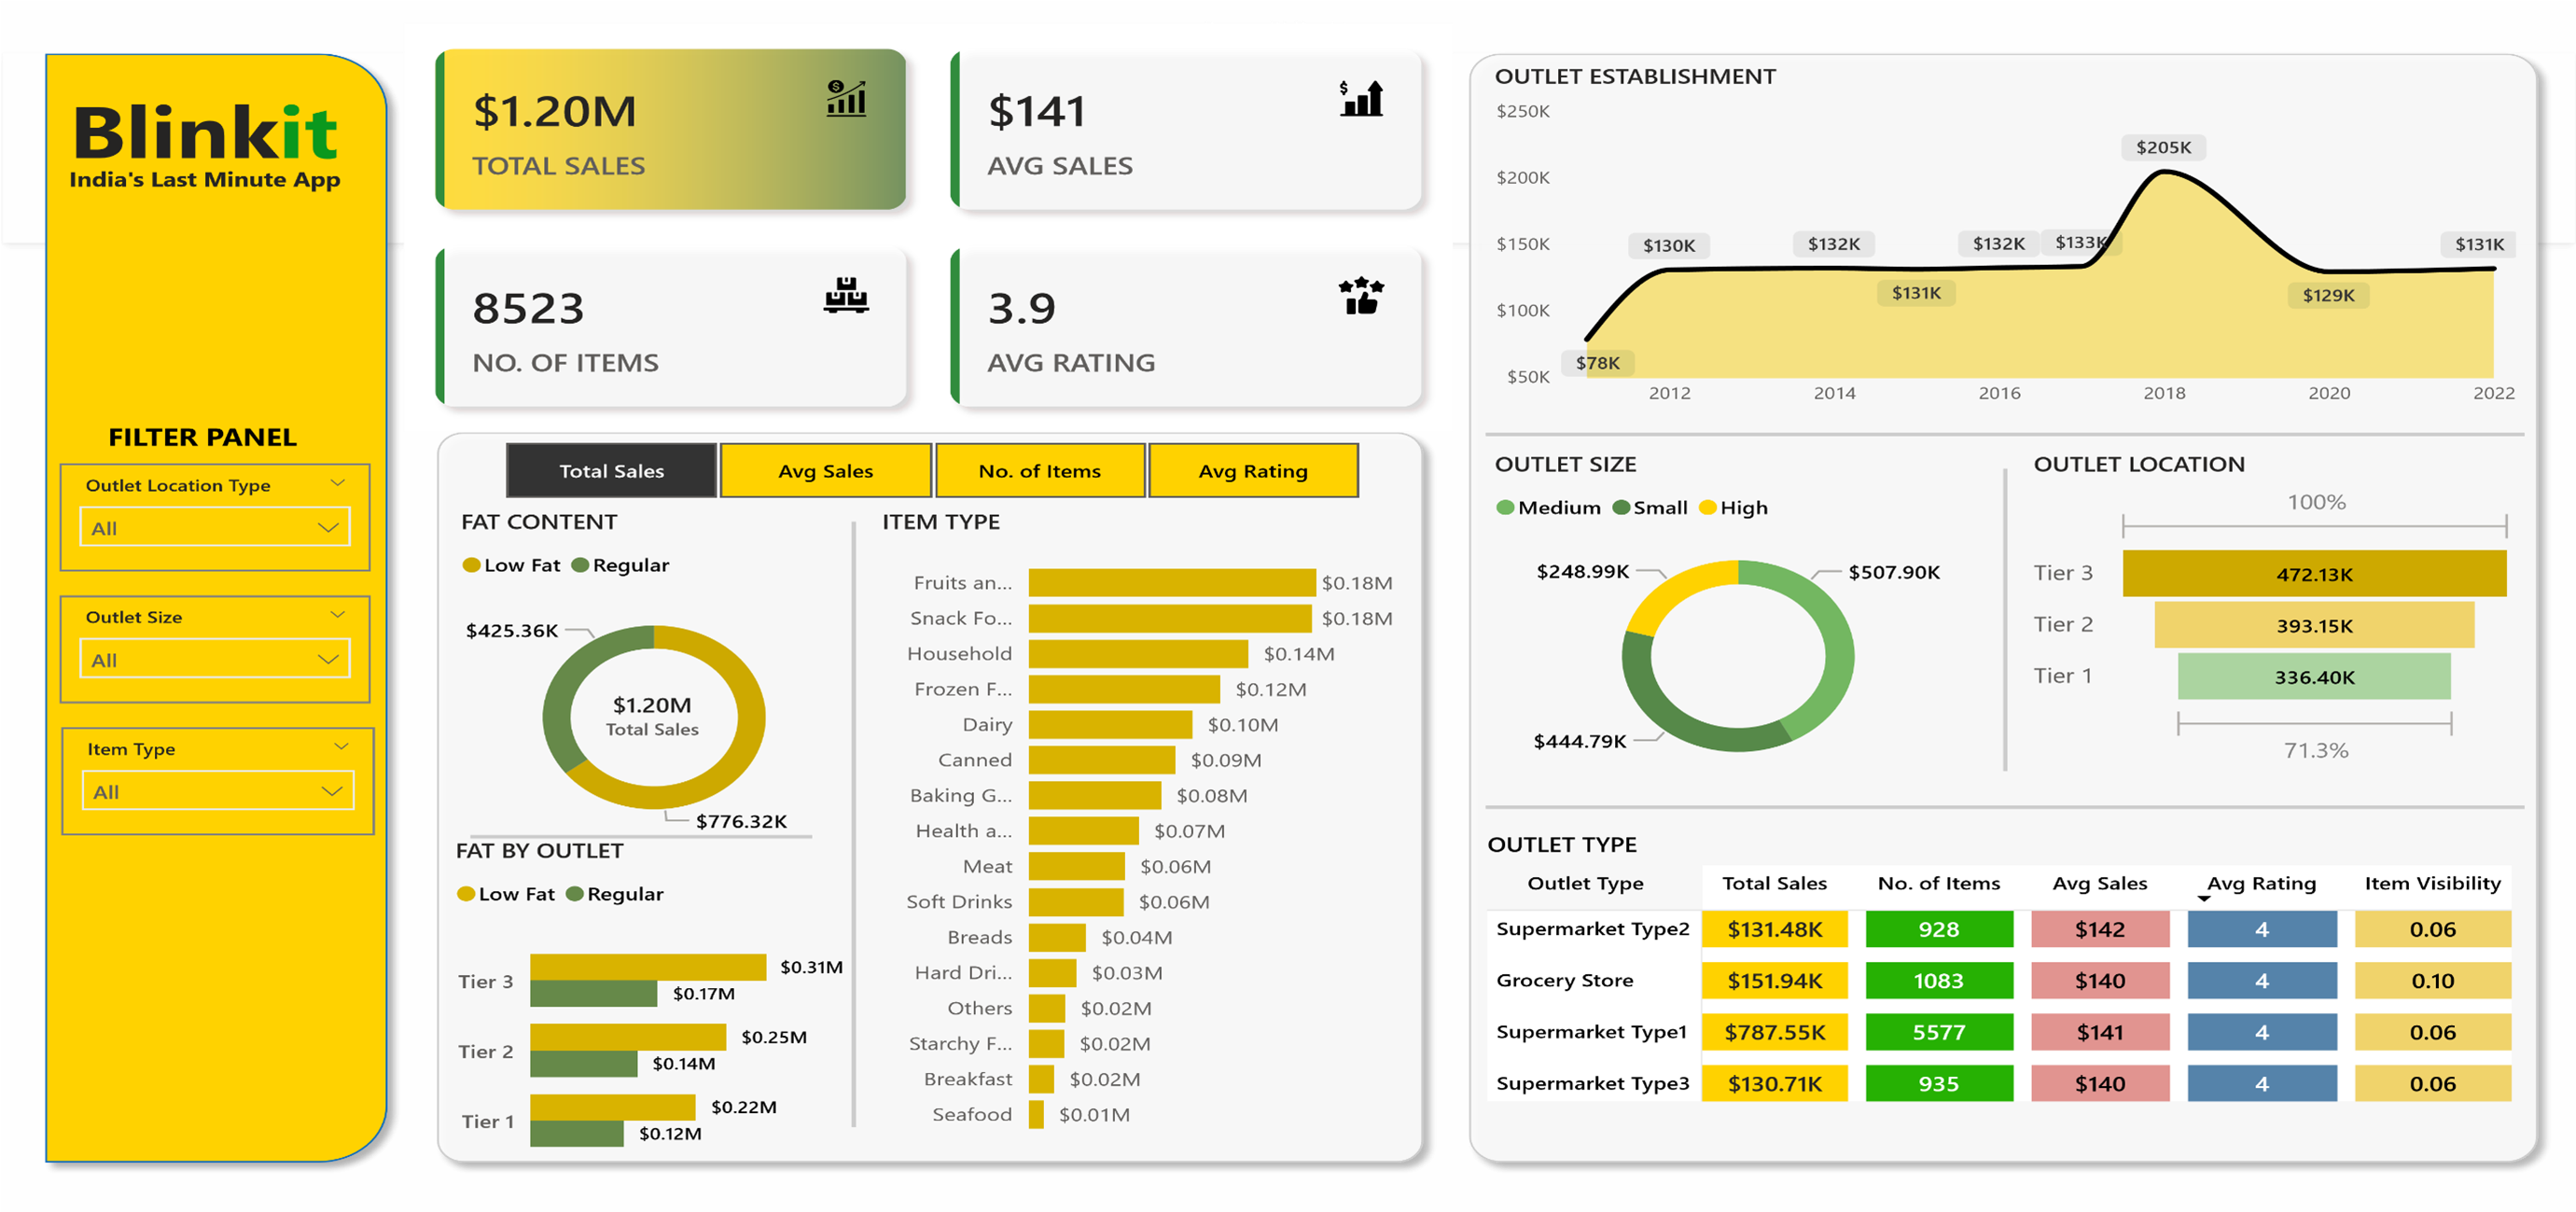

The dashboard page shown, as its layout file describes it:
{"tool":"powerbi","page":{"name":"Page 1","canvas":[1400,800],"ordinal":0},"visuals":[{"type":"shape","box":[15,25.5,204.1,750.4],"z":0},{"type":"textbox","box":[31.5,46.5,166.6,85.5],"z":1000},{"type":"textbox","box":[31.5,103.6,166.6,28.5],"z":2000},{"type":"cardVisual","fields":{"Data":["BlinkIT Grocery Data.Total Sales","BlinkIT Grocery Data.Avg Sales","BlinkIT Grocery Data.No. of Items","BlinkIT Grocery Data.Avg Rating"]},"box":[219.1,15,570.3,270.2],"z":3000},{"type":"shape","box":[228.1,276.2,553.8,499.8],"z":4000},{"type":"donutChart","title":"FAT CONTENT","fields":{"Y":["BlinkIT Grocery Data.Total Sales"],"Category":["BlinkIT Grocery Data.Item Fat Content"]},"box":[245,335,220,230],"z":5000},{"type":"slicer","fields":{"Values":["Metrics.Metrics"]},"box":[249.1,285.2,513.3,49.5],"z":6000},{"type":"cardVisual","fields":{"Data":["BlinkIT Grocery Data.Total Sales"]},"box":[294.2,427.7,120.1,88.6],"z":7000},{"type":"clusteredBarChart","title":"FAT BY OUTLET","fields":{"Y":["BlinkIT Grocery Data.Total Sales"],"Series":["BlinkIT Grocery Data.Item Fat Content"],"Category":["BlinkIT Grocery Data.Outlet Location Type"]},"box":[241.7,551.7,221.7,230],"z":8000},{"type":"shape","box":[255.1,540.3,186.1,24],"z":9000},{"type":"shape","box":[441.3,343.7,45,400.7],"z":10000},{"type":"barChart","title":"ITEM TYPE","fields":{"Y":["BlinkIT Grocery Data.Total Sales"],"Category":["BlinkIT Grocery Data.Item Type"]},"box":[474.3,334.7,288.2,424.7],"z":11000},{"type":"shape","box":[789.5,25.5,598.8,750.4],"z":12000},{"type":"lineChart","title":"OUTLET ESTABLISHMENT","fields":{"Category":["BlinkIT Grocery Data.Outlet Establishment Year"],"Y":["BlinkIT Grocery Data.Total Sales"]},"box":[807.5,40.5,564.3,235.6],"z":13000},{"type":"shape","box":[807.5,276.2,564.3,21],"z":14000},{"type":"donutChart","title":"OUTLET SIZE","fields":{"Y":["BlinkIT Grocery Data.Total Sales"],"Category":["BlinkIT Grocery Data.Outlet Size"]},"box":[807.5,297.2,274.7,225.1],"z":15000},{"type":"shape","box":[1067.1,309.2,45,199.6],"z":16000},{"type":"funnel","title":"OUTLET LOCATION","fields":{"Y":["Sum(BlinkIT Grocery Data.Sales)"],"Category":["BlinkIT Grocery Data.Outlet Location Type"]},"box":[1100.1,297.2,271.7,211.6],"z":17000},{"type":"shape","box":[807.5,522.3,564.3,21],"z":18000},{"type":"pivotTable","title":"OUTLET TYPE","fields":{"Rows":["BlinkIT Grocery Data.Outlet Type"],"Values":["BlinkIT Grocery Data.Total Sales","BlinkIT Grocery Data.No. of Items","BlinkIT Grocery Data.Avg Sales","BlinkIT Grocery Data.Avg Rating","Avg(BlinkIT Grocery Data.Item Visibility)"]},"box":[803,547.8,573.3,220.6],"z":19000},{"type":"slicer","fields":{"Values":["BlinkIT Grocery Data.Outlet Location Type"]},"box":[31.5,306.2,169.6,70.5],"z":20000},{"type":"slicer","fields":{"Values":["BlinkIT Grocery Data.Outlet Size"]},"box":[31.5,393.2,169.6,70.5],"z":21000},{"type":"slicer","fields":{"Values":["BlinkIT Grocery Data.Item Type"]},"box":[33,480.3,169.6,70.5],"z":22000},{"type":"textbox","box":[53.3,271.7,128.3,38.3],"z":23000}]}

Visuals, with their boxes on the page's 1400x800 design canvas (x1, y1, x2, y2). These are canvas units, not pixel positions in the 2576x1212 screenshot, which may show the page scaled, cropped or inside an application window:
shape: detection(15, 26, 219, 776)
textbox: detection(32, 46, 198, 132)
textbox: detection(32, 104, 198, 132)
cardVisual - BlinkIT Grocery Data.Total Sales x BlinkIT Grocery Data.Avg Sales: detection(219, 15, 789, 285)
shape: detection(228, 276, 782, 776)
"FAT CONTENT" donutChart: detection(245, 335, 465, 565)
slicer - Metrics.Metrics: detection(249, 285, 762, 335)
cardVisual - BlinkIT Grocery Data.Total Sales: detection(294, 428, 414, 516)
"FAT BY OUTLET" clusteredBarChart: detection(242, 552, 463, 782)
shape: detection(255, 540, 441, 564)
shape: detection(441, 344, 486, 744)
"ITEM TYPE" barChart: detection(474, 335, 762, 759)
shape: detection(790, 26, 1388, 776)
"OUTLET ESTABLISHMENT" lineChart: detection(808, 40, 1372, 276)
shape: detection(808, 276, 1372, 297)
"OUTLET SIZE" donutChart: detection(808, 297, 1082, 522)
shape: detection(1067, 309, 1112, 509)
"OUTLET LOCATION" funnel: detection(1100, 297, 1372, 509)
shape: detection(808, 522, 1372, 543)
"OUTLET TYPE" pivotTable: detection(803, 548, 1376, 768)
slicer - BlinkIT Grocery Data.Outlet Location Type: detection(32, 306, 201, 377)
slicer - BlinkIT Grocery Data.Outlet Size: detection(32, 393, 201, 464)
slicer - BlinkIT Grocery Data.Item Type: detection(33, 480, 203, 551)
textbox: detection(53, 272, 182, 310)
